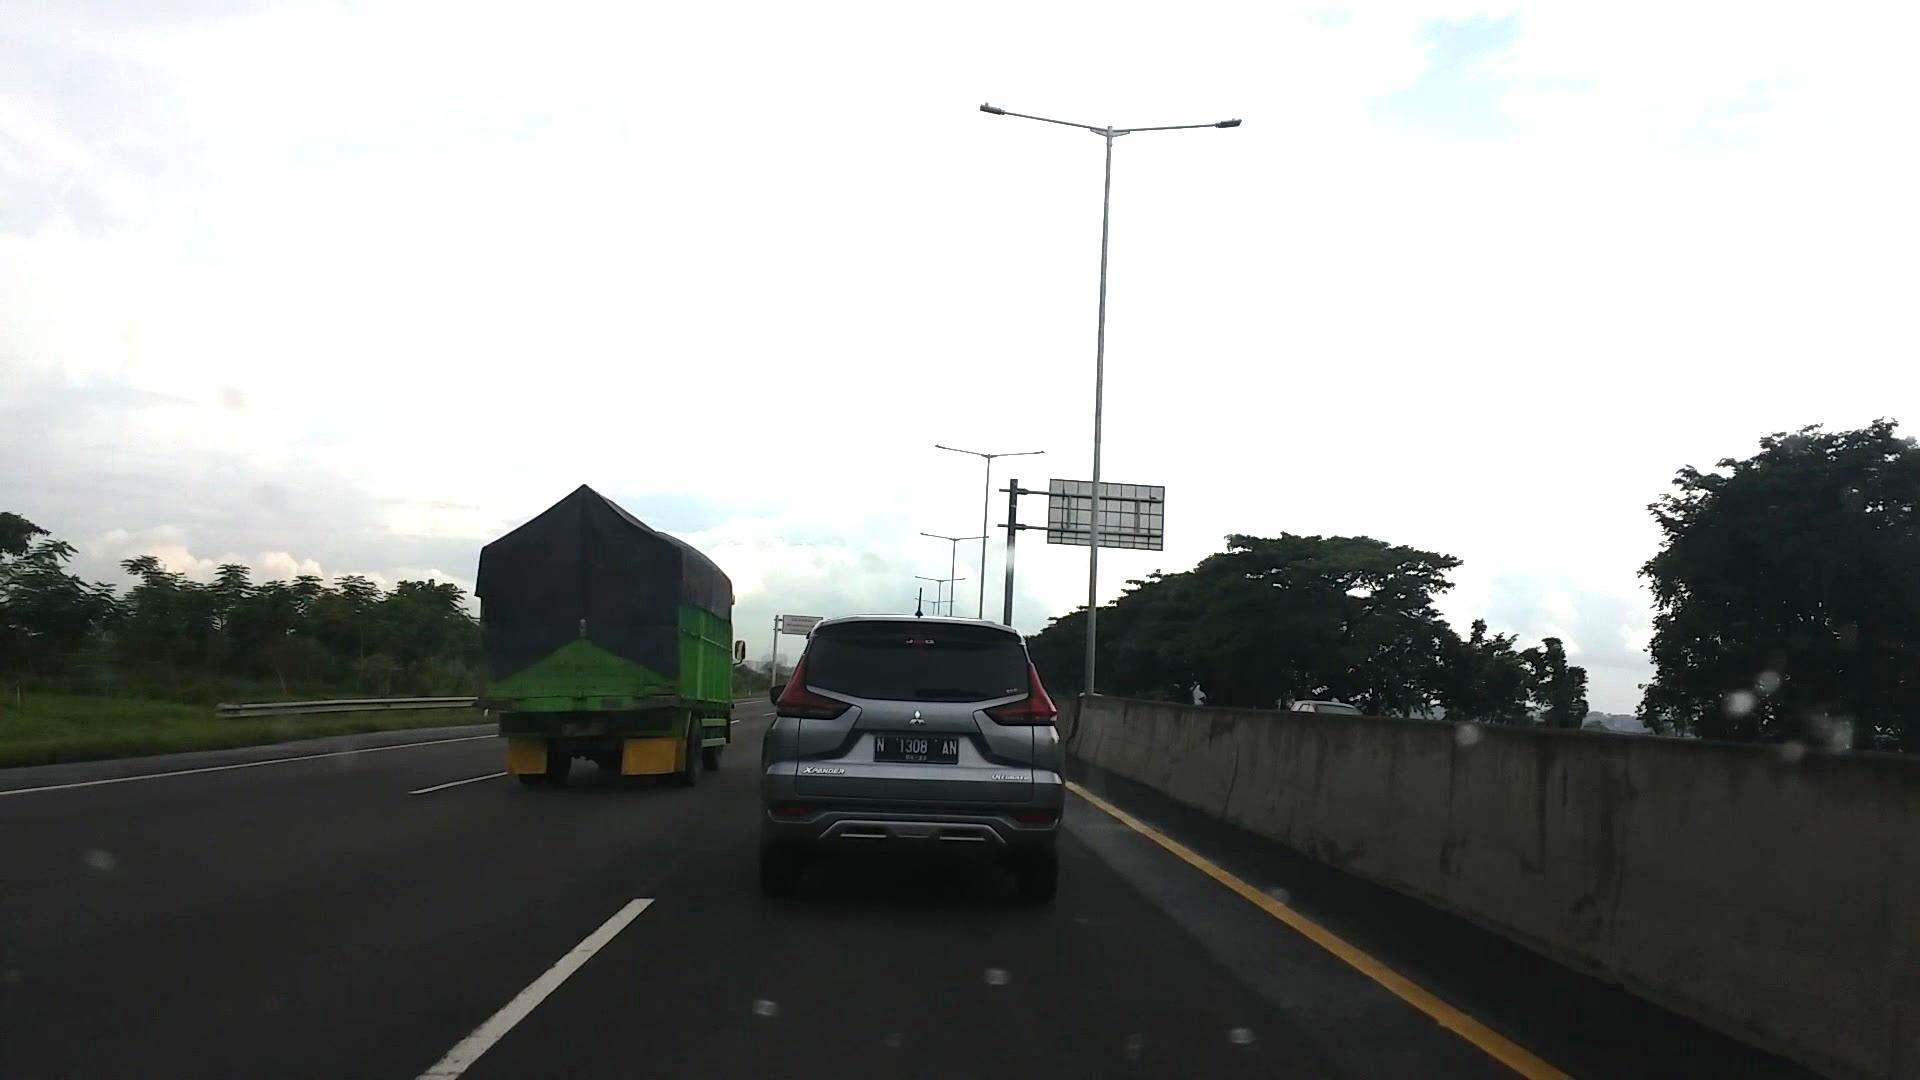plate_positive: (874, 735, 957, 764)
